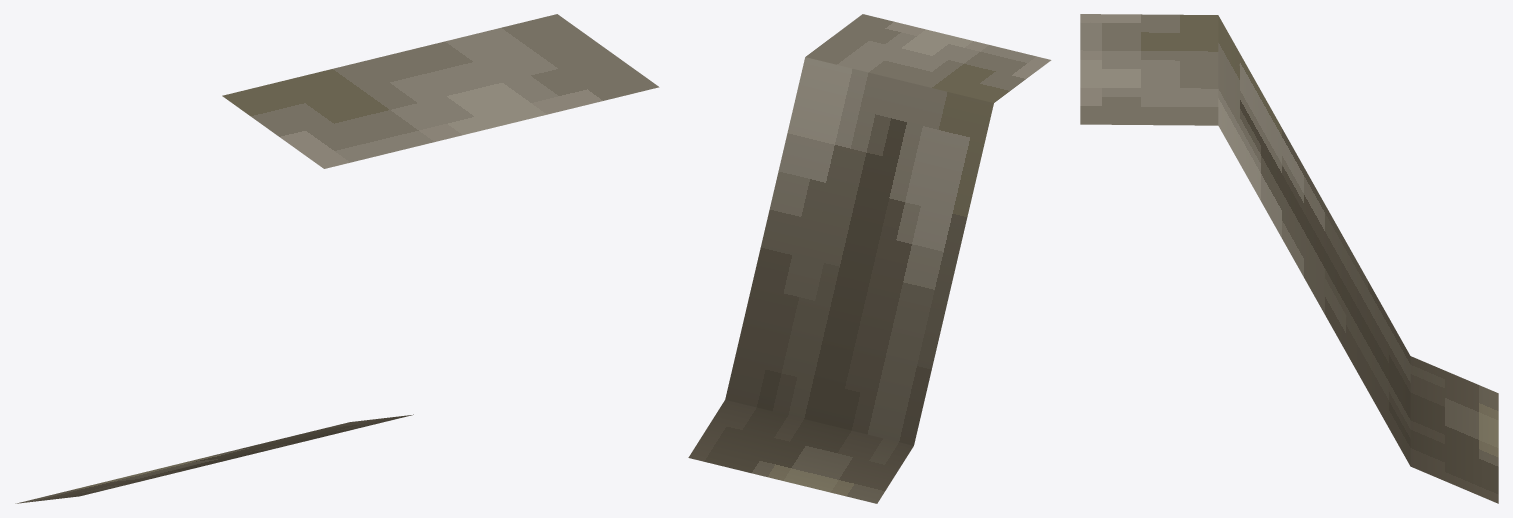
The picture shows the model from 3 angles, left to right: view 1: azimuth 30°, elevation 25°; view 2: azimuth 150°, elevation 25°; view 3: azimuth 270°, elevation 25°; orthographic projection. The views are drawn at different scales.
Bounding box in the file's own units: 0.625 × 1 × 1.
1 material, 1 textured.
